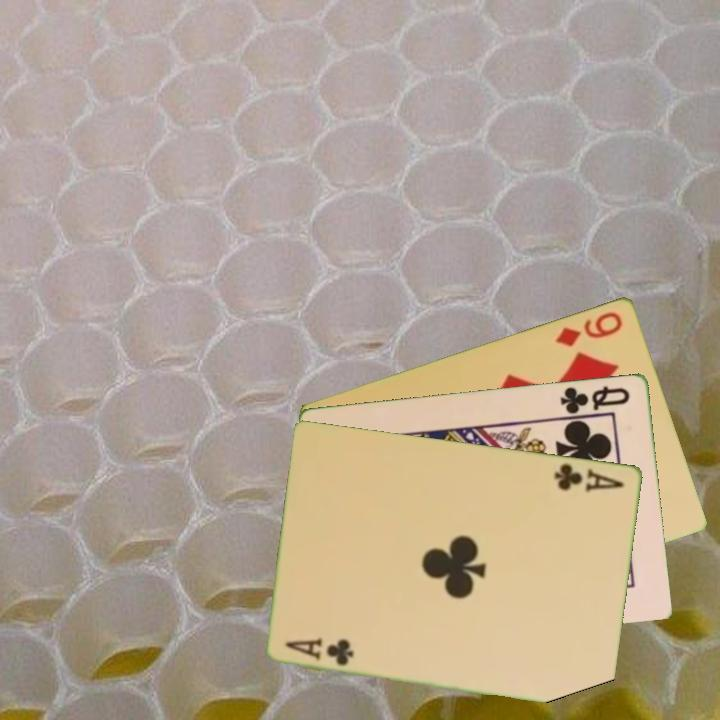9d: (552, 308, 626, 349)
Ac: (551, 459, 628, 495), (282, 633, 358, 669)
Qc: (557, 382, 633, 419)
